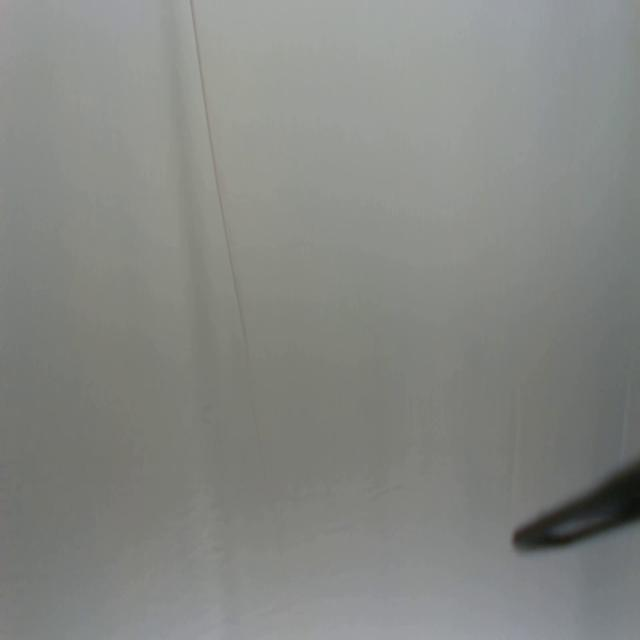crease: (187, 0, 255, 382)
